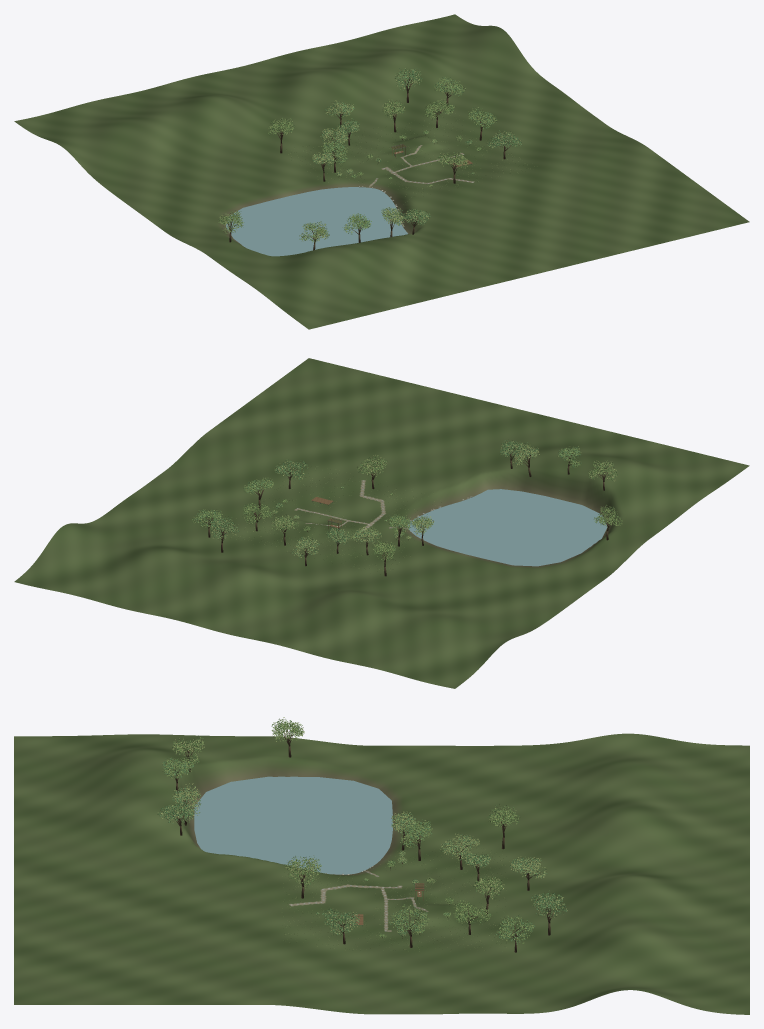
Rendered from garden-landscape-finish.glb.
3 renders of one model, top to bottom at view 1: azimuth 30°, elevation 25°; view 2: azimuth 150°, elevation 25°; view 3: azimuth 270°, elevation 25°, orthographic. The views are drawn at different scales.
Visible parts, largest first — view 1: garden-landscape-finish_Meadow_base, garden-landscape-finish_Quiet_secondary_water, garden-landscape-finish_Canopy_leaf_3, garden-landscape-finish_Canopy_leaf_2, garden-landscape-finish_Canopy_leaf_1, garden-landscape-finish_Canopy_leaf_4, garden-landscape-finish_Canopy_leaf_0, garden-landscape-finish_Textured_bark; view 2: garden-landscape-finish_Meadow_base, garden-landscape-finish_Quiet_secondary_water, garden-landscape-finish_Canopy_leaf_3, garden-landscape-finish_Canopy_leaf_4, garden-landscape-finish_Canopy_leaf_2, garden-landscape-finish_Canopy_leaf_1, garden-landscape-finish_Canopy_leaf_0, garden-landscape-finish_Textured_bark; view 3: garden-landscape-finish_Meadow_base, garden-landscape-finish_Quiet_secondary_water, garden-landscape-finish_Canopy_leaf_3, garden-landscape-finish_Canopy_leaf_2, garden-landscape-finish_Canopy_leaf_4, garden-landscape-finish_Canopy_leaf_1, garden-landscape-finish_Canopy_leaf_0, garden-landscape-finish_Textured_bark, garden-landscape-finish_Walked_fine_gravel.
Part boxes in pixels (x1,y1,x2,y2): garden-landscape-finish_Meadow_base: [14, 14, 749, 329]; garden-landscape-finish_Quiet_secondary_water: [226, 187, 407, 256]; garden-landscape-finish_Canopy_leaf_3: [312, 68, 521, 234]; garden-landscape-finish_Canopy_leaf_2: [219, 79, 497, 233]; garden-landscape-finish_Canopy_leaf_1: [218, 77, 496, 242]; garden-landscape-finish_Canopy_leaf_4: [299, 68, 521, 242]; garden-landscape-finish_Canopy_leaf_0: [219, 68, 520, 241]; garden-landscape-finish_Textured_bark: [226, 72, 513, 250]; garden-landscape-finish_Meadow_base: [14, 358, 749, 688]; garden-landscape-finish_Quiet_secondary_water: [408, 489, 607, 566]; garden-landscape-finish_Canopy_leaf_3: [192, 440, 581, 557]; garden-landscape-finish_Canopy_leaf_4: [208, 441, 616, 556]; garden-landscape-finish_Canopy_leaf_2: [193, 443, 621, 560]; garden-landscape-finish_Canopy_leaf_1: [192, 446, 622, 560]; garden-landscape-finish_Canopy_leaf_0: [211, 440, 621, 560]; garden-landscape-finish_Textured_bark: [198, 446, 612, 576]; garden-landscape-finish_Meadow_base: [14, 733, 749, 1014]; garden-landscape-finish_Quiet_secondary_water: [194, 776, 392, 874]; garden-landscape-finish_Canopy_leaf_3: [159, 758, 566, 944]; garden-landscape-finish_Canopy_leaf_2: [162, 717, 546, 942]; garden-landscape-finish_Canopy_leaf_4: [158, 737, 567, 936]; garden-landscape-finish_Canopy_leaf_1: [164, 719, 533, 943]; garden-landscape-finish_Canopy_leaf_0: [157, 718, 566, 937]; garden-landscape-finish_Textured_bark: [166, 726, 559, 952]; garden-landscape-finish_Walked_fine_gravel: [289, 871, 428, 931].
Size of the model in its own units: 152 by 16.48 by 176.
Materials: 22 (3 with a texture image).
